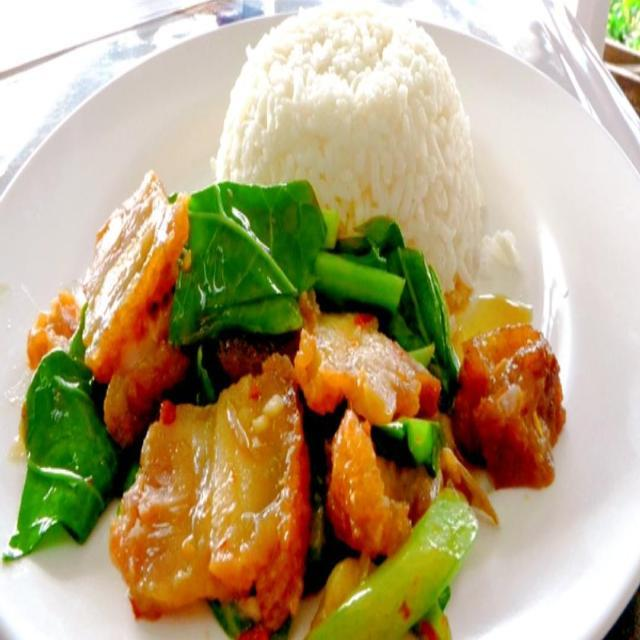cac loai rau cu: (301, 491, 477, 640), (185, 180, 317, 357), (3, 351, 112, 565), (314, 219, 460, 371)
com: (218, 3, 528, 301)
thit heo: (124, 364, 303, 626), (87, 172, 182, 423), (301, 295, 435, 426), (461, 322, 564, 486), (323, 431, 408, 554), (25, 271, 77, 349)
